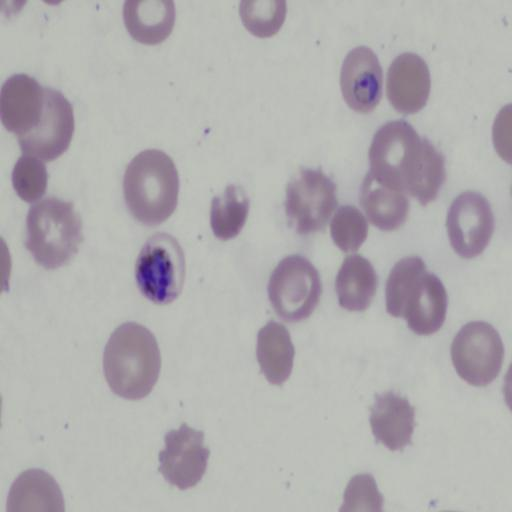Infected: (133, 233, 187, 307), (340, 45, 385, 113)
Uninfected: (13, 88, 76, 162), (106, 320, 161, 400), (123, 148, 178, 225), (26, 196, 81, 270), (284, 165, 339, 236), (449, 319, 504, 388), (157, 424, 211, 490), (269, 256, 321, 322), (447, 189, 493, 257), (366, 391, 417, 452), (387, 50, 430, 115), (407, 273, 450, 336), (386, 255, 425, 319), (0, 73, 41, 133), (258, 324, 294, 387), (336, 255, 376, 311), (210, 186, 250, 239), (331, 206, 370, 254), (13, 157, 47, 199)
